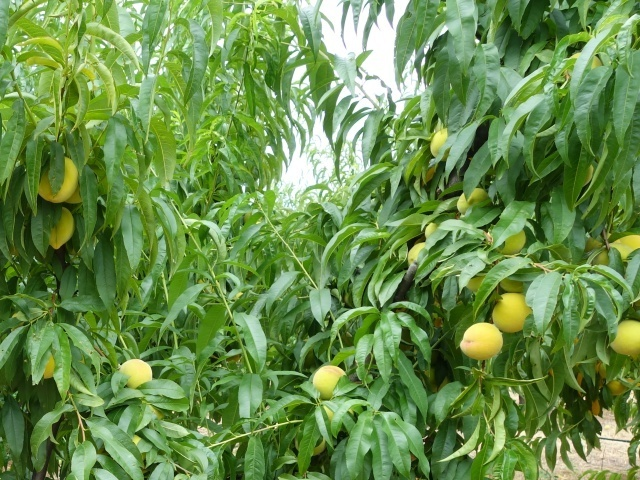peach: (37, 151, 80, 204), (459, 319, 508, 361), (491, 291, 534, 333), (44, 201, 80, 251), (114, 354, 159, 393), (312, 360, 351, 404), (610, 315, 639, 363), (456, 180, 493, 216), (428, 121, 460, 162)
